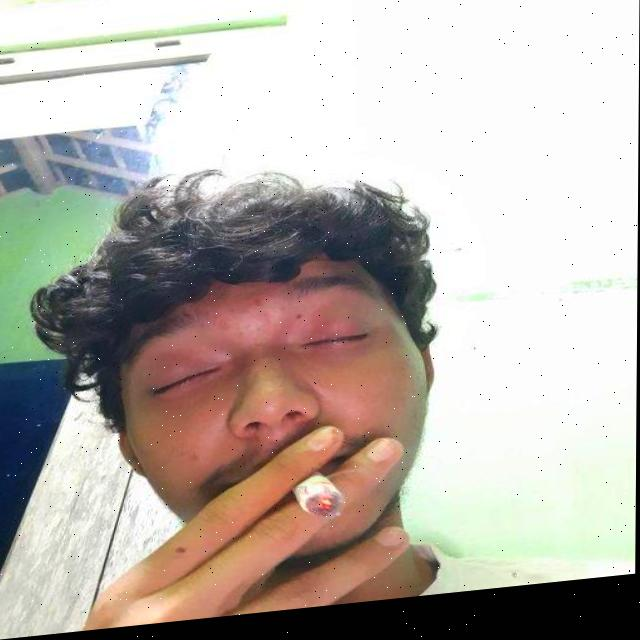cigarette: (294, 479, 344, 527)
